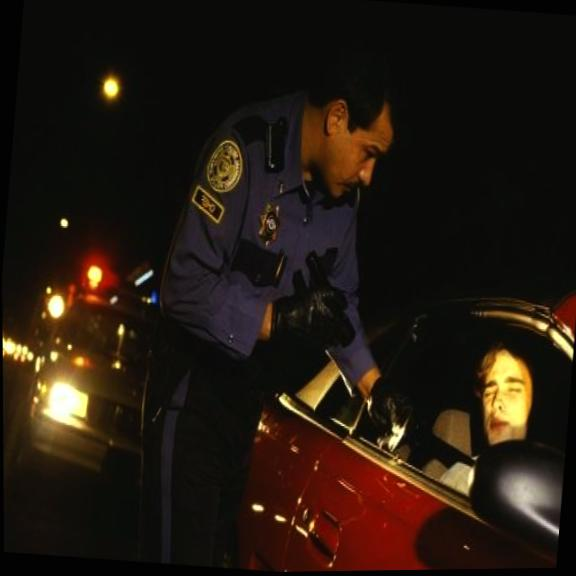no_safety_vest: (142, 81, 370, 392)
